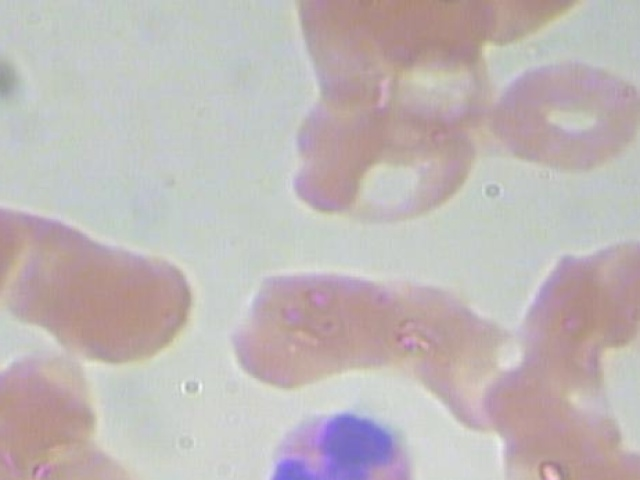RBC: (230, 256, 416, 395), (320, 102, 483, 231), (467, 343, 629, 472), (57, 236, 197, 367), (486, 58, 640, 176), (0, 342, 121, 480), (596, 232, 640, 371), (23, 446, 164, 480), (627, 445, 640, 480)
WBC: (253, 395, 426, 480)
